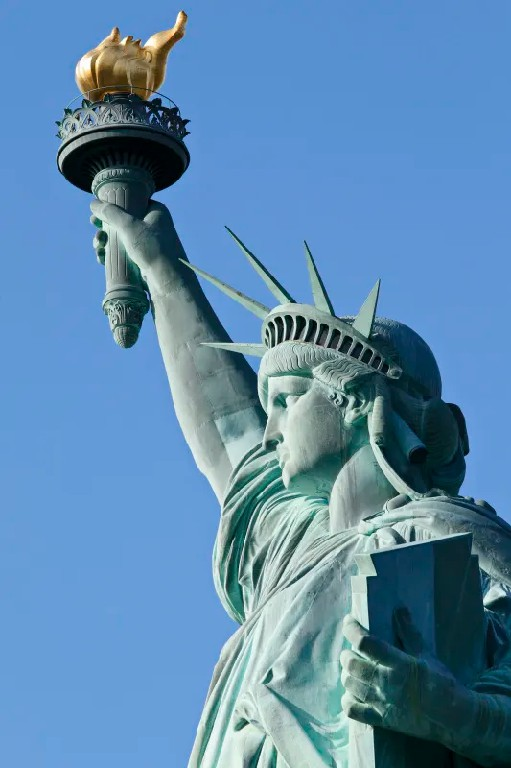SL: (55, 9, 511, 768)
